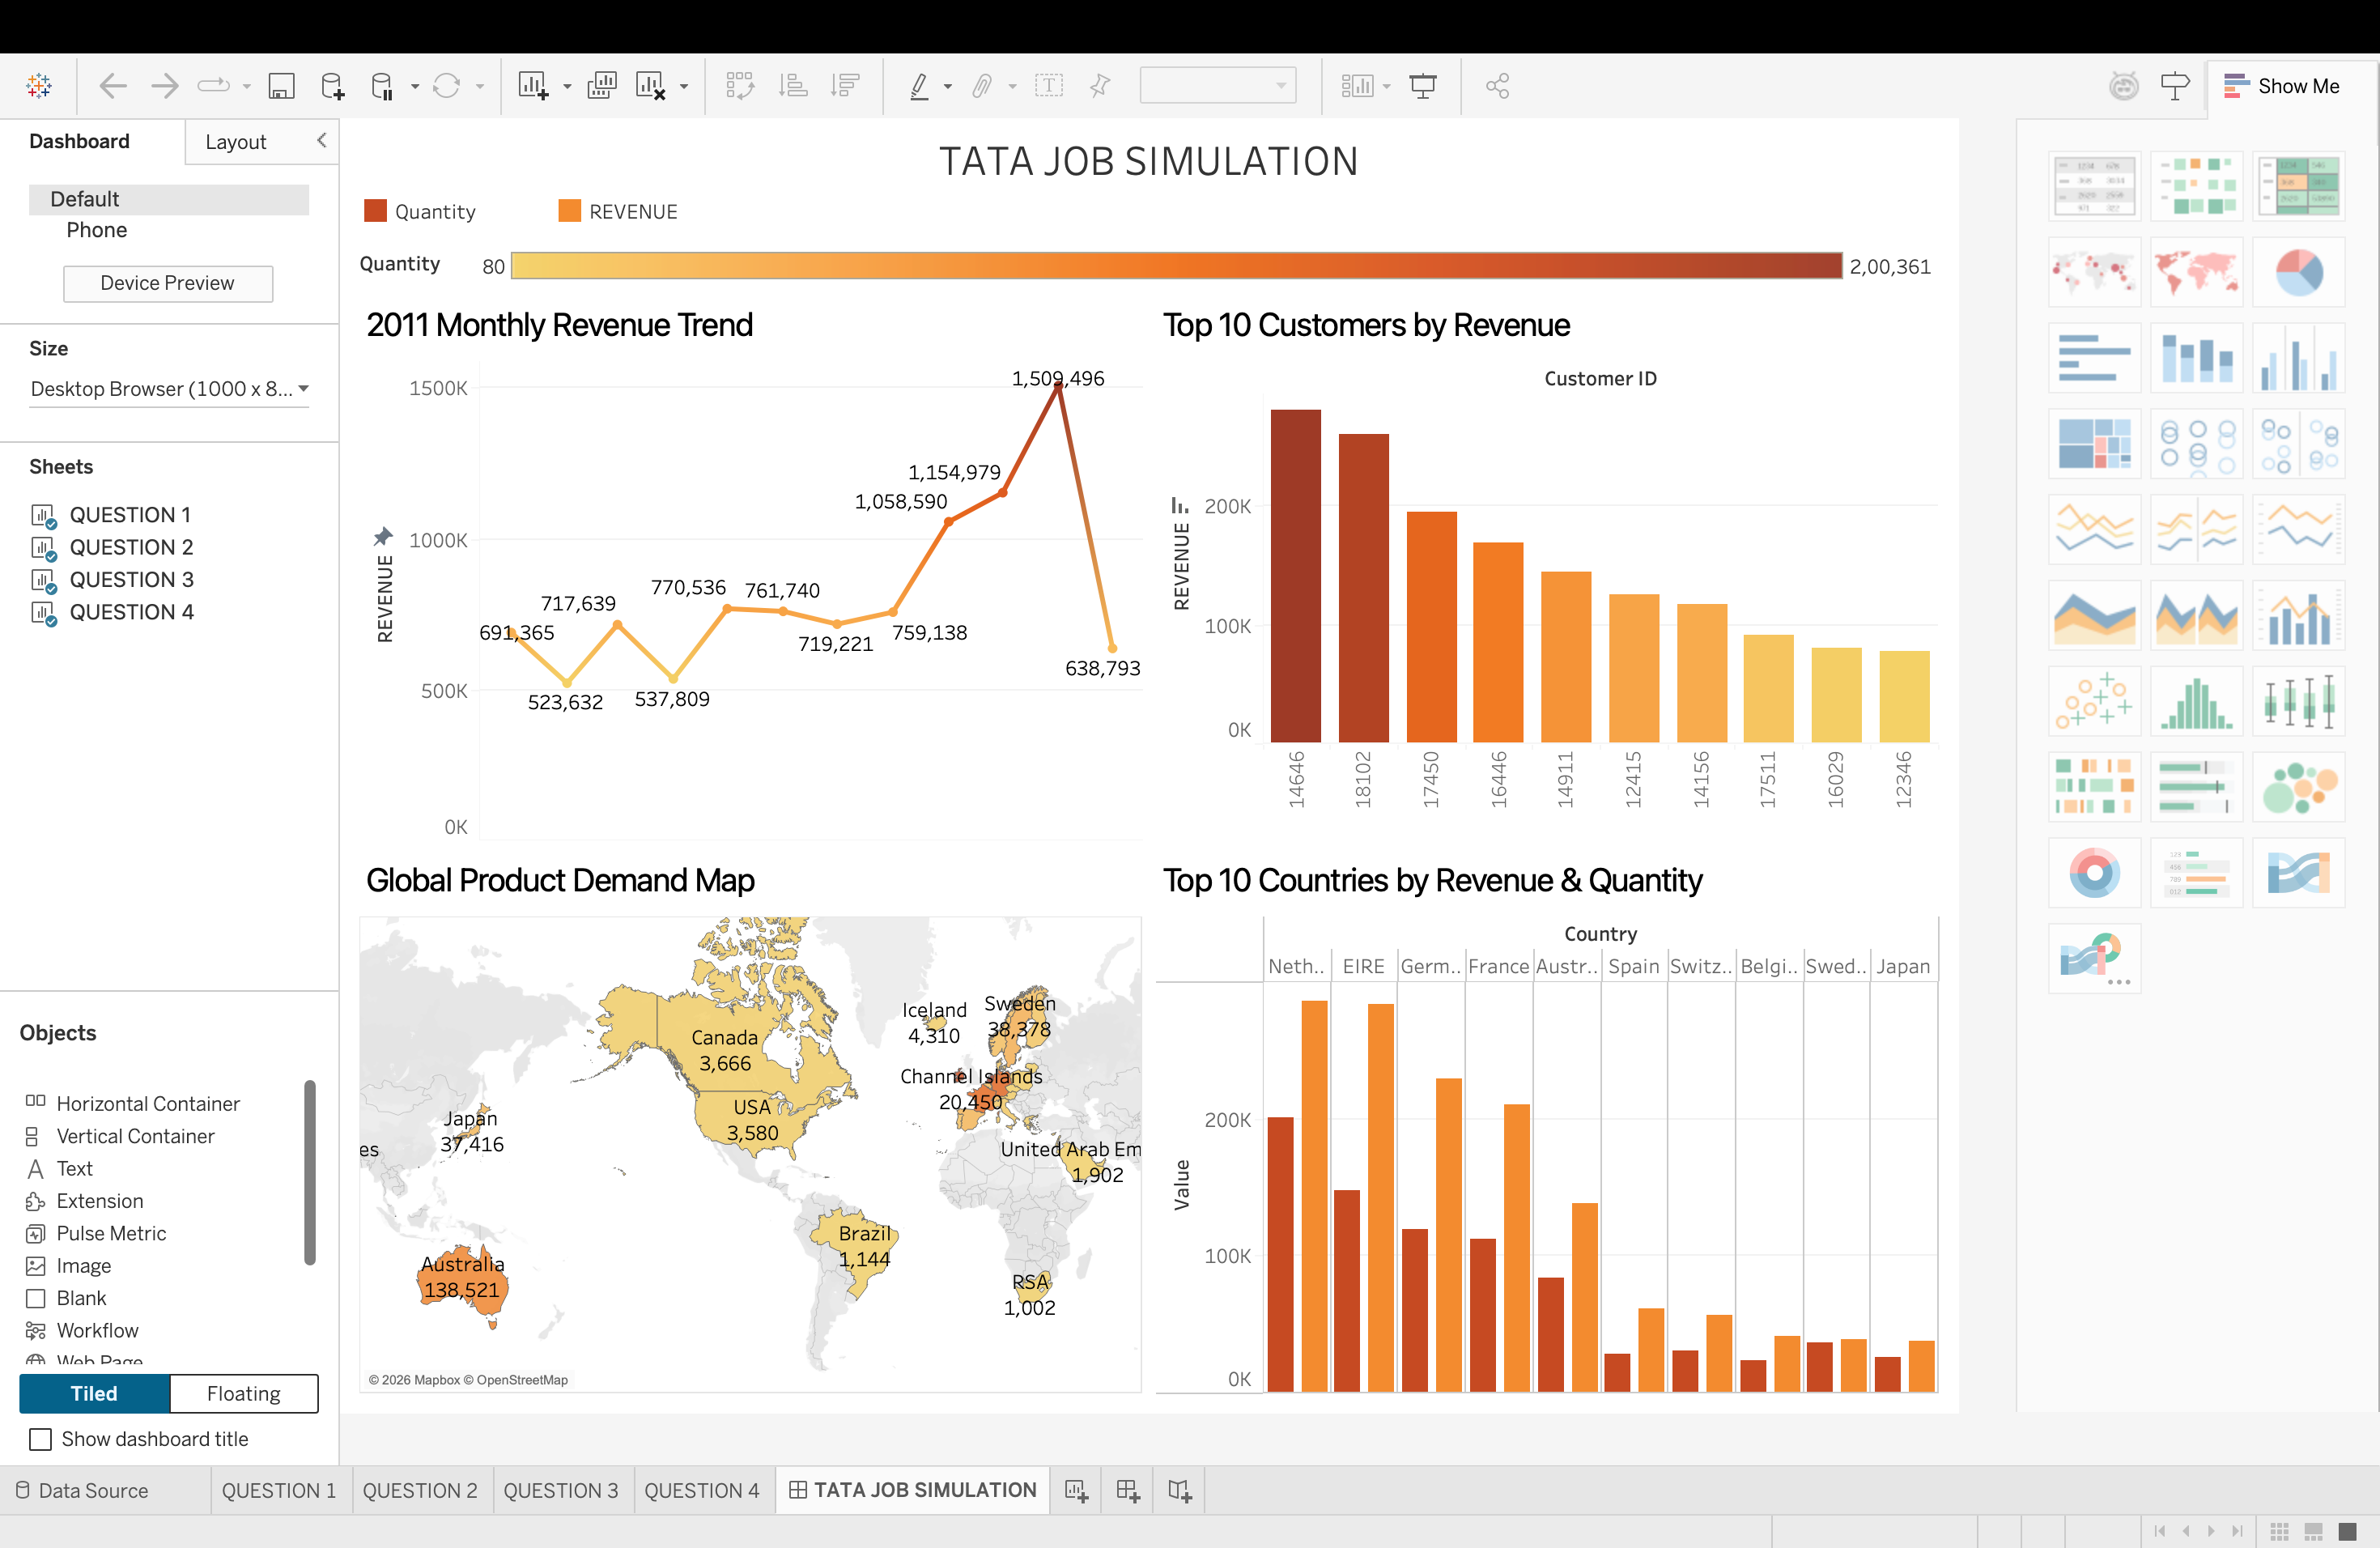

Layout of this report page (visuals, bound fields, positions):
{"tool":"tableau","page":{"name":"TATA JOB SIMULATION","canvas":[1000,800],"ordinal":0},"visuals":[{"type":"title","box":[8,8,984,34.7]},{"type":"legend","title":"QUESTION 2","param":"[federated.0doftt500ov4hl1eagjc80zpisoi].[:Measure Names]","box":[8,42.7,984,32.3]},{"type":"legend","title":"QUESTION 4","param":"[federated.0doftt500ov4hl1eagjc80zpisoi].[sum:Quantity:qk]","box":[8,75,984,32]},{"type":"worksheet","title":"QUESTION 1","mark":"Automatic","rows":["Calculation_0095144002080768"],"cols":["InvoiceDate"],"box":[8,107,492,342.5]},{"type":"worksheet","title":"QUESTION 3","mark":"Bar","rows":["Calculation_0095144002080768"],"cols":["CustomerID"],"box":[500,107,492,342.5]},{"type":"worksheet","title":"QUESTION 4","mark":"Multipolygon","box":[8,449.5,492,342.5]},{"type":"worksheet","title":"QUESTION 2","mark":"Automatic","cols":["Country"],"box":[500,449.5,492,342.5]}]}

Visuals, with their boxes in screenshot pixels (x1, y1, x2, y2):
title: BBox(351, 0, 2299, 48)
"QUESTION 2" legend: BBox(351, 48, 2299, 112)
"QUESTION 4" legend: BBox(351, 112, 2299, 175)
"QUESTION 1" worksheet: BBox(351, 175, 1325, 853)
"QUESTION 3" worksheet (Bar marks): BBox(1325, 175, 2299, 853)
"QUESTION 4" worksheet (Multipolygon marks): BBox(351, 853, 1325, 1531)
"QUESTION 2" worksheet: BBox(1325, 853, 2299, 1531)
